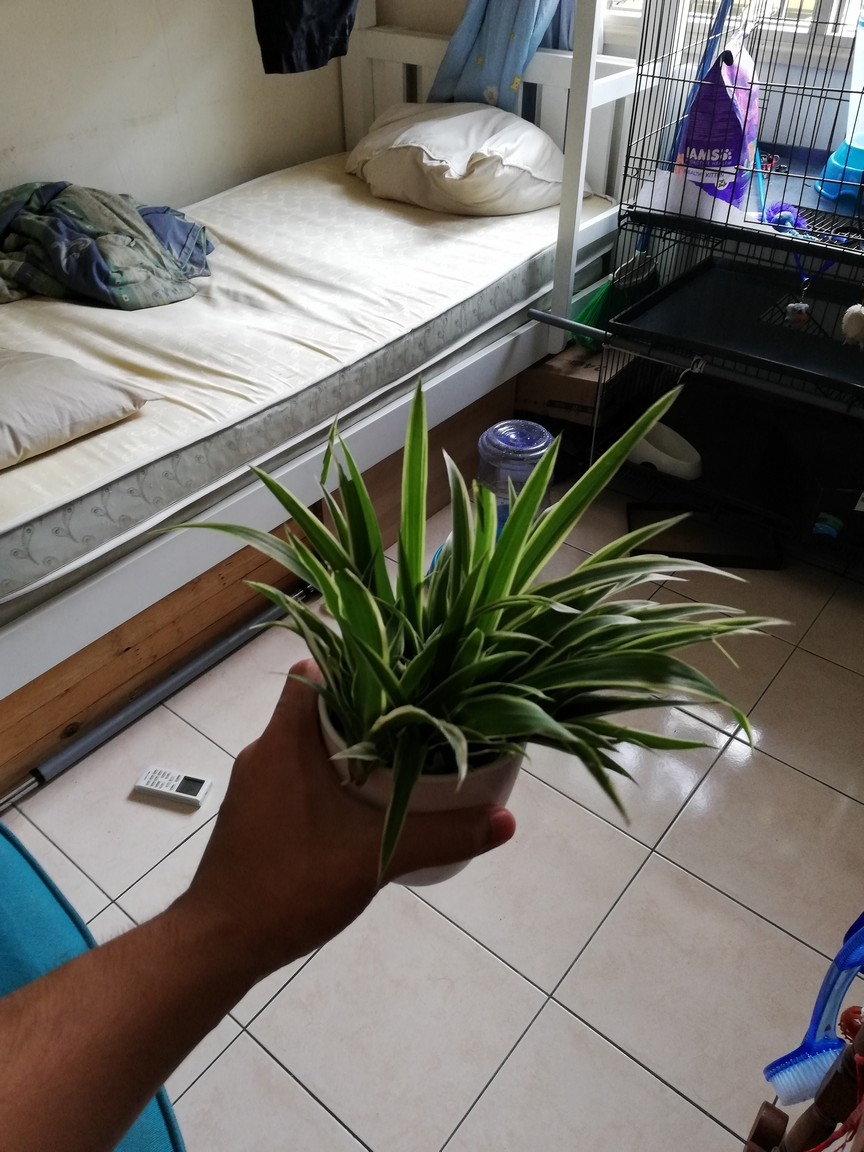daun: (565, 382, 687, 502), (137, 521, 280, 561), (400, 369, 431, 553), (592, 508, 699, 555), (378, 759, 413, 894), (247, 458, 311, 519), (438, 443, 473, 540), (278, 518, 328, 584), (590, 771, 634, 844), (522, 427, 568, 493), (642, 729, 726, 764), (258, 666, 330, 703), (309, 472, 348, 537), (459, 545, 492, 616), (233, 575, 292, 613), (728, 705, 763, 763), (489, 676, 560, 704), (688, 557, 755, 585), (601, 754, 650, 789), (329, 739, 381, 769), (664, 597, 749, 615), (706, 615, 803, 630), (244, 618, 304, 640), (498, 629, 555, 651), (494, 741, 537, 769), (711, 639, 742, 676), (589, 612, 645, 631), (647, 571, 692, 594), (605, 596, 661, 614), (505, 471, 520, 512), (735, 627, 777, 641)
